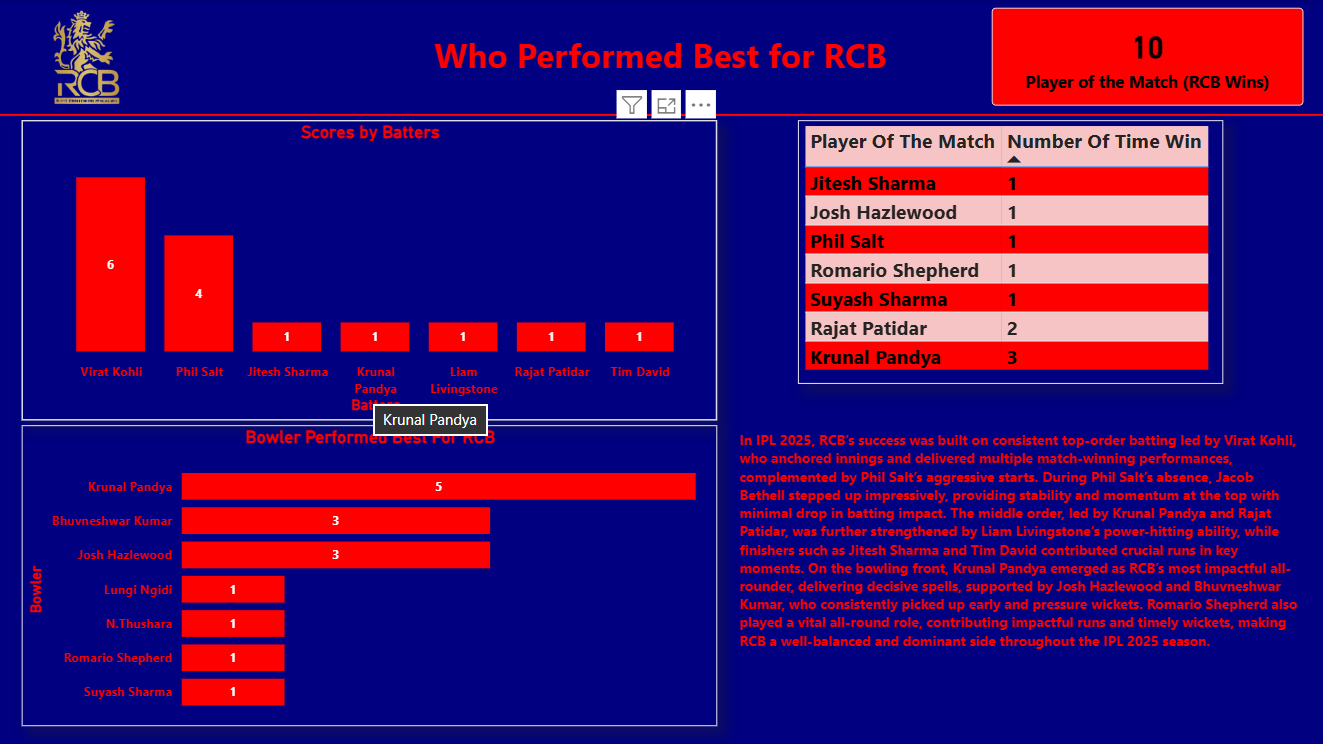

This screenshot's page, from the dashboard's own definition file:
{"tool":"powerbi","page":{"name":"Performance","canvas":[1280,720],"ordinal":3},"visuals":[{"type":"shape","box":[0,0,1280,223.8],"z":0},{"type":"image","box":[0,0,170.1,112.2],"z":1000},{"type":"textbox","box":[106.2,27.7,1066.5,57.9],"z":2000},{"type":"card","fields":{"Values":["Fact matches.Player of the Match (RCB Wins)"]},"box":[959.3,8.6,300.8,94.1],"z":3000},{"type":"columnChart","fields":{"Category":["Fact matches.top_scorer"],"Y":["Fact matches.highscore"]},"box":[22.8,116.9,671.4,289.4],"z":4000},{"type":"barChart","title":"Bowler Performed Best For RCB","fields":{"Category":["Fact matches.best_bowling"],"Y":["Fact matches.Wickets Taken"]},"box":[22.8,411.9,671.4,290.8],"z":5000},{"type":"tableEx","fields":{"Values":["Fact matches.player_of_the_match","Fact matches.Player of the Match (RCB Wins)"]},"box":[772.2,116.7,410.7,254.6],"z":6000},{"type":"textbox","box":[710.6,411.4,550.1,292],"z":6001}]}

Visuals, with their boxes in screenshot pixels (x1, y1, x2, y2), scaled from the page's 1280x720 canvas onto the 1323x744 screenshot:
shape: bbox(0, 0, 1322, 231)
image: bbox(0, 0, 176, 116)
textbox: bbox(110, 29, 1212, 88)
card - Fact matches.Player of the Match (RCB Wins): bbox(992, 9, 1302, 106)
columnChart - Fact matches.top_scorer x Fact matches.highscore: bbox(24, 121, 718, 420)
"Bowler Performed Best For RCB" barChart: bbox(24, 426, 718, 726)
tableEx - Fact matches.player_of_the_match x Fact matches.Player of the Match (RCB Wins): bbox(798, 121, 1223, 384)
textbox: bbox(734, 425, 1303, 727)
